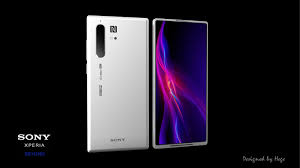sony: (85, 12, 153, 156)
